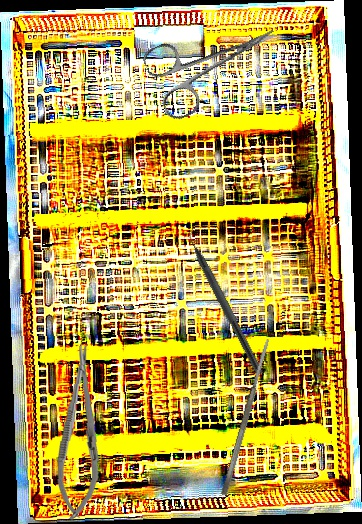Chopper: (179, 221, 274, 376)
Iris Scissors: (140, 0, 291, 124)
Needle Holder: (54, 342, 106, 522)
Spatula Surgical: (219, 338, 273, 496)
